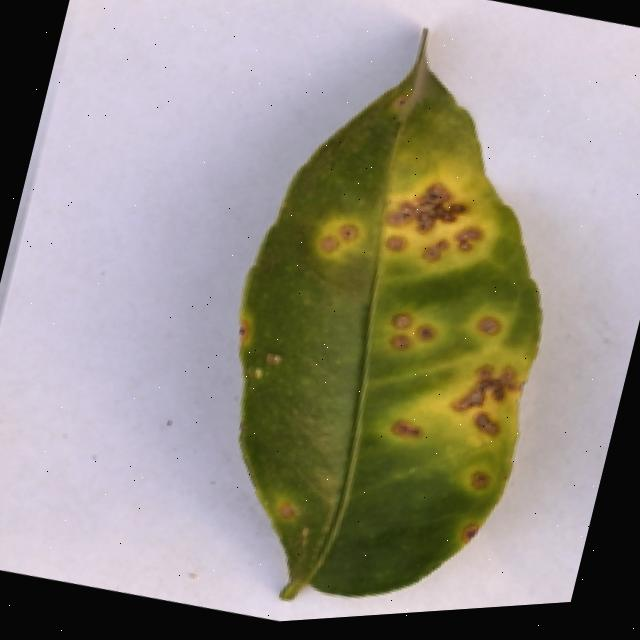canker: (242, 36, 539, 595), (332, 274, 550, 576), (295, 139, 529, 306), (203, 309, 297, 400), (249, 494, 314, 538)
